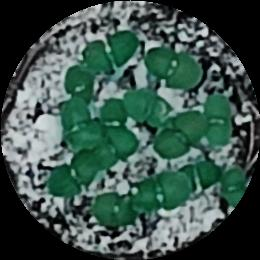Basil: (48, 147, 100, 201), (133, 169, 187, 215), (155, 111, 208, 157), (83, 30, 140, 72), (145, 47, 197, 93), (194, 93, 233, 144), (92, 132, 149, 166), (173, 157, 222, 192), (124, 92, 171, 128), (92, 194, 139, 230), (62, 103, 98, 147), (217, 167, 251, 210), (103, 99, 135, 141), (64, 71, 95, 98)
